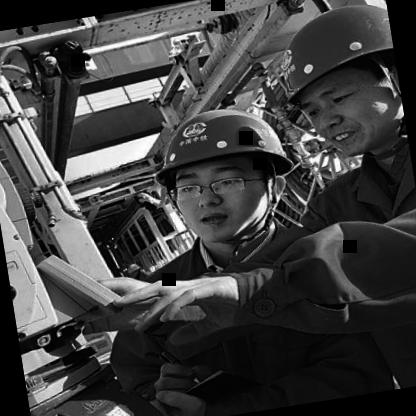helmet: (136, 82, 301, 254), (260, 0, 410, 177)
